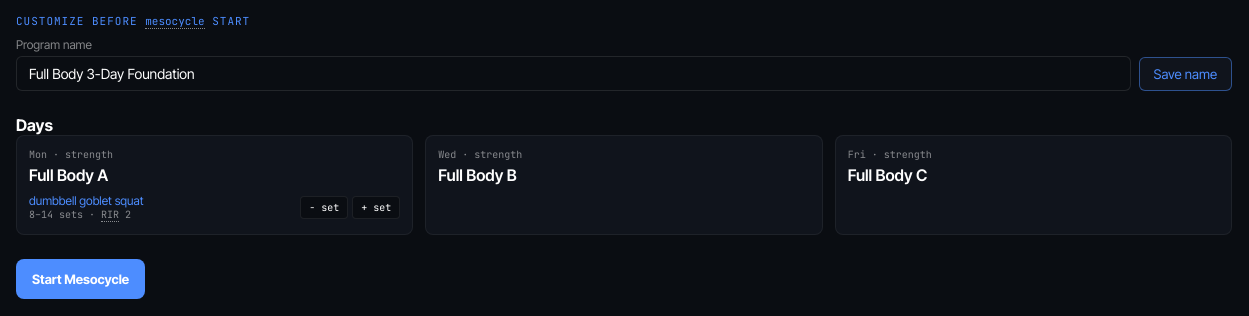
Test case: <ForkWizard> › − set patches remove_set and re-renders the refreshed set range
The width and height of the screenshot is (1249, 316).
Expected: the text "8–14 sets · RIR 2" is shown, [29, 208, 144, 222]
Click the button "− set": [324, 208] box [300, 196, 348, 219]
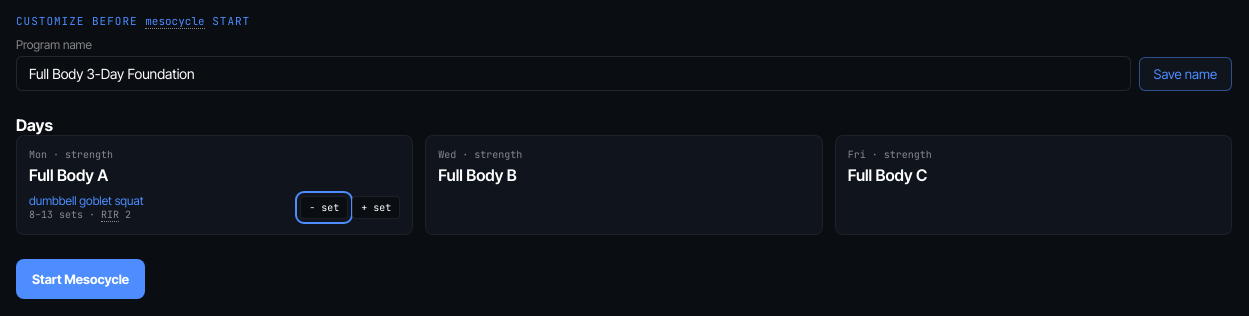
Result: the text "8–13 sets · RIR 2" is shown at [29, 208, 144, 222]
